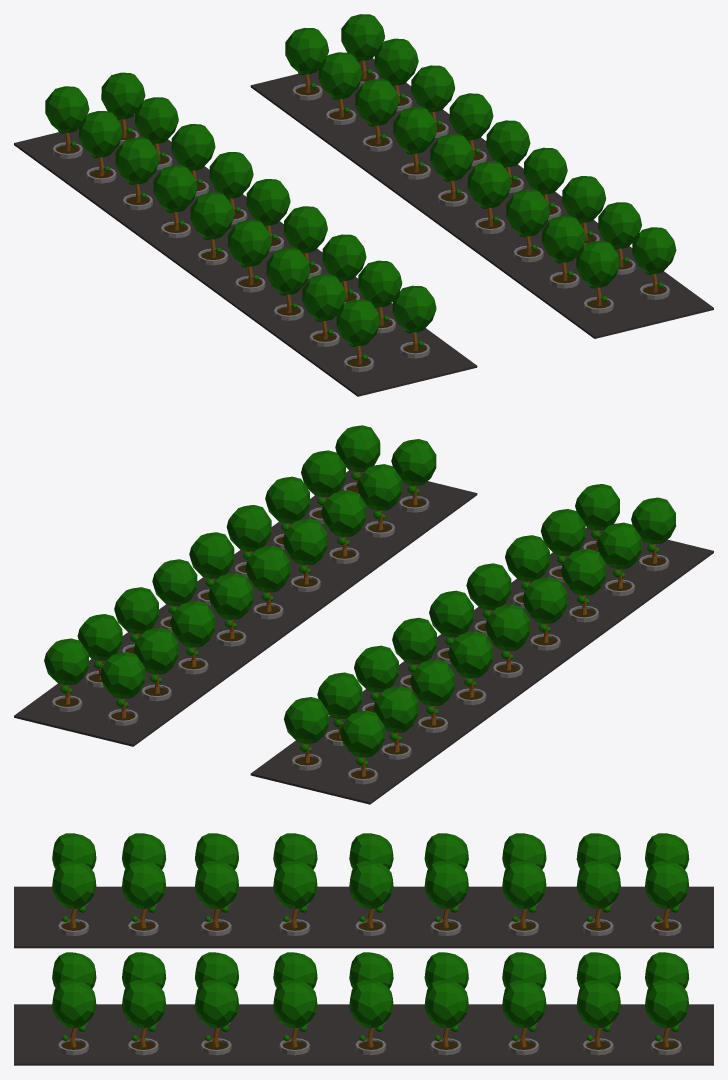
The model's file is taemplate_b_005.fbx.
3 views of the same model, one above another, from view 1: azimuth 30°, elevation 25°; view 2: azimuth 150°, elevation 25°; view 3: azimuth 270°, elevation 25° (orthographic).
Parts seen in each view (by area): view 1: Cube.008, Cube.007, tree.066, tree.039, tree.052, tree.058, tree.062, tree.043, tree.064, tree.036, tree.033, tree.038 (+26 smaller); view 2: Cube.008, Cube.007, tree.062, tree.064, tree.041, tree.060, tree.056, tree.058, tree.035, tree.068, tree.051, tree.067 (+26 smaller); view 3: Cube.007, Cube.008, tree.063, tree.046, tree.040, tree.059, tree.036, tree.044, tree.038, tree.057, tree.061, tree.042 (+26 smaller).
Part boxes in pixels (left/top/right/bottom): Cube.008: left=250, top=58, right=713, bottom=338; Cube.007: left=14, top=115, right=477, bottom=396; tree.066: left=318, top=52, right=362, bottom=124; tree.039: left=266, top=248, right=310, bottom=320; tree.052: left=576, top=241, right=620, bottom=313; tree.058: left=467, top=161, right=511, bottom=234; tree.062: left=393, top=107, right=437, bottom=179; tree.043: left=190, top=192, right=234, bottom=265; tree.064: left=355, top=79, right=398, bottom=151; tree.036: left=392, top=285, right=436, bottom=358; tree.033: left=336, top=299, right=380, bottom=372; tree.038: left=632, top=227, right=676, bottom=299; Cube.008: left=14, top=470, right=477, bottom=746; Cube.007: left=250, top=527, right=713, bottom=804; tree.062: left=208, top=573, right=253, bottom=646; tree.064: left=170, top=601, right=215, bottom=674; tree.041: left=522, top=577, right=567, bottom=650; tree.060: left=245, top=546, right=290, bottom=619; tree.056: left=321, top=490, right=366, bottom=563; tree.058: left=282, top=518, right=327, bottom=592; tree.035: left=597, top=522, right=641, bottom=596; tree.068: left=100, top=652, right=145, bottom=725; tree.051: left=340, top=710, right=384, bottom=784; tree.067: left=44, top=638, right=88, bottom=712; Cube.007: left=14, top=886, right=713, bottom=948; Cube.008: left=14, top=1004, right=713, bottom=1065; tree.063: left=502, top=980, right=546, bottom=1055; tree.046: left=502, top=861, right=546, bottom=936; tree.040: left=273, top=861, right=317, bottom=936; tree.059: left=349, top=980, right=393, bottom=1055; tree.036: left=52, top=861, right=96, bottom=936; tree.044: left=424, top=861, right=468, bottom=936; tree.038: left=52, top=980, right=96, bottom=1055; tree.057: left=273, top=980, right=317, bottom=1055; tree.061: left=424, top=980, right=468, bottom=1055; tree.042: left=349, top=861, right=393, bottom=936.
Bounding box in the file's own units: 891 × 158 × 1489.
